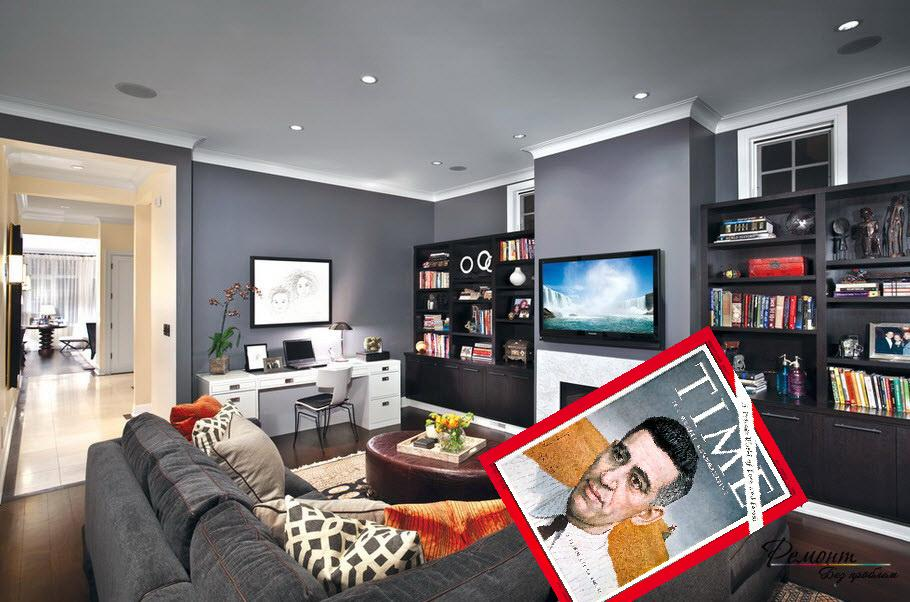times: (479, 322, 808, 602)
